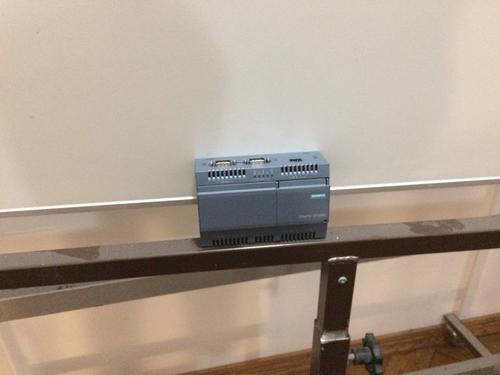iot2000: (194, 150, 330, 249)
